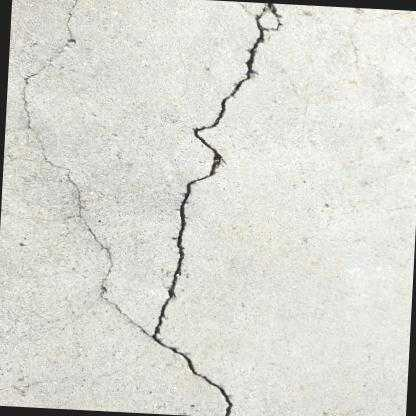crack: (148, 3, 282, 416), (19, 0, 147, 338)
